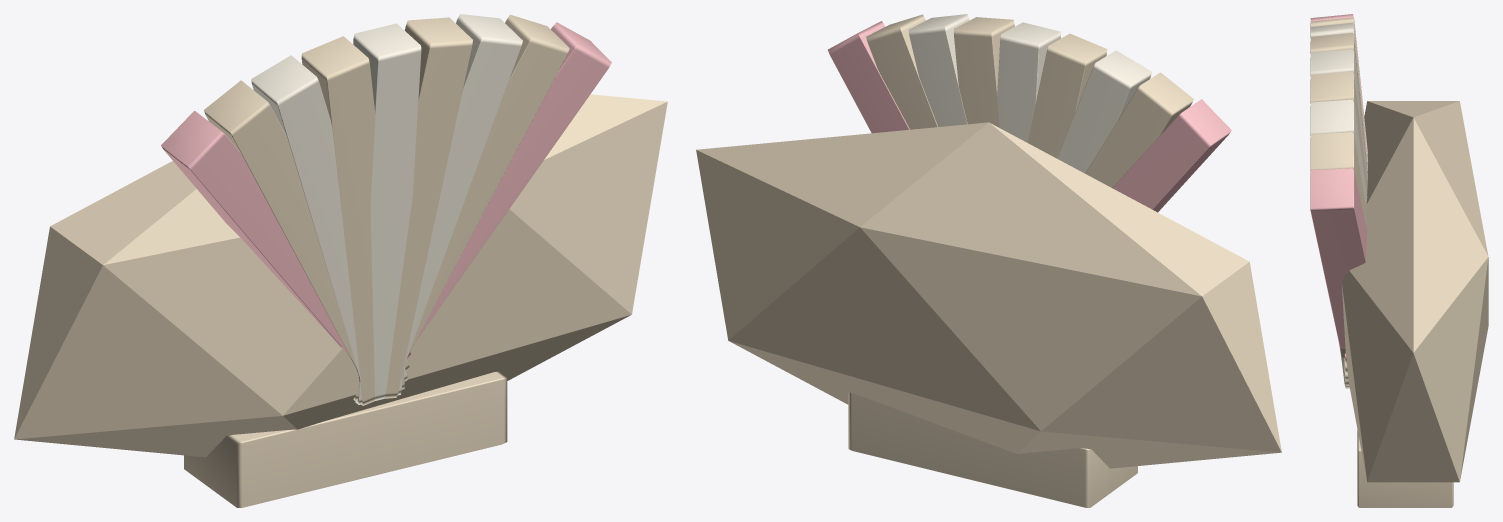
Rendered from shell.glb.
3 renders of one model, left to right at view 1: azimuth 30°, elevation 25°; view 2: azimuth 150°, elevation 25°; view 3: azimuth 270°, elevation 25°, orthographic. The views are drawn at different scales.
Parts seen in each view (by area): view 1: fan shell body, small hinge foot, flat scallop rib.004, flat scallop rib.003, flat scallop rib.005, flat scallop rib, flat scallop rib.002, flat scallop rib.006, flat scallop rib.001, flat scallop rib.007, flat scallop rib.008; view 2: fan shell body, small hinge foot, flat scallop rib, flat scallop rib.002, flat scallop rib.001, flat scallop rib.003, flat scallop rib.004, flat scallop rib.005, flat scallop rib.006, flat scallop rib.007, flat scallop rib.008; view 3: fan shell body, flat scallop rib.008, small hinge foot, flat scallop rib.007, flat scallop rib.006, flat scallop rib.005, flat scallop rib.004, flat scallop rib.003, flat scallop rib.002, flat scallop rib.001, flat scallop rib.
Part boxes in pixels (x1,y1,x2,y2): fan shell body: (14,94,667,457); small hinge foot: (184,371,507,507); flat scallop rib.004: (353,23,421,404); flat scallop rib.003: (301,36,404,405); flat scallop rib.005: (353,17,472,400); flat scallop rib: (161,110,411,359); flat scallop rib.002: (251,55,407,382); flat scallop rib.006: (401,14,522,373); flat scallop rib.001: (204,80,409,371); flat scallop rib.007: (408,14,569,355); flat scallop rib.008: (415,22,611,341); fan shell body: (696,122,1281,468); small hinge foot: (848,392,1137,507); flat scallop rib: (1112,99,1231,212); flat scallop rib.002: (1057,50,1151,173); flat scallop rib.001: (1085,72,1193,187); flat scallop rib.003: (1027,33,1107,158); flat scallop rib.004: (997,22,1060,142); flat scallop rib.005: (953,17,1014,127); flat scallop rib.006: (908,14,969,126); flat scallop rib.007: (866,14,937,129); flat scallop rib.008: (828,21,909,133); fan shell body: (1341,101,1488,482); flat scallop rib.008: (1310,168,1367,348); small hinge foot: (1357,430,1453,507); flat scallop rib.007: (1310,132,1366,357); flat scallop rib.006: (1310,99,1367,364); flat scallop rib.005: (1310,71,1367,380); flat scallop rib.004: (1310,49,1367,388); flat scallop rib.003: (1310,33,1367,385); flat scallop rib.002: (1310,23,1367,380); flat scallop rib.001: (1310,17,1368,371); flat scallop rib: (1310,14,1367,362).
Bounding box in the file's own units: 0.8229 × 0.5619 × 0.2222.
